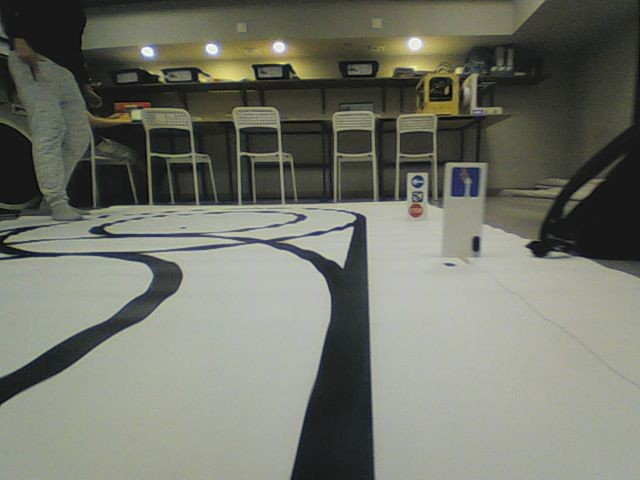Stop: (408, 203, 423, 218)
priority_movement: (448, 166, 482, 199)
